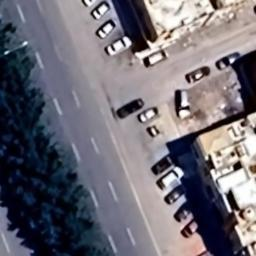sedan: (104, 34, 134, 56), (88, 2, 114, 20), (96, 20, 118, 40)
unknown: (116, 94, 144, 121), (170, 197, 194, 225), (215, 51, 246, 72), (148, 154, 174, 176), (162, 182, 188, 204), (184, 66, 212, 86)
van: (156, 164, 184, 190), (173, 88, 195, 121), (140, 50, 172, 70), (178, 218, 205, 240), (136, 104, 162, 126)
